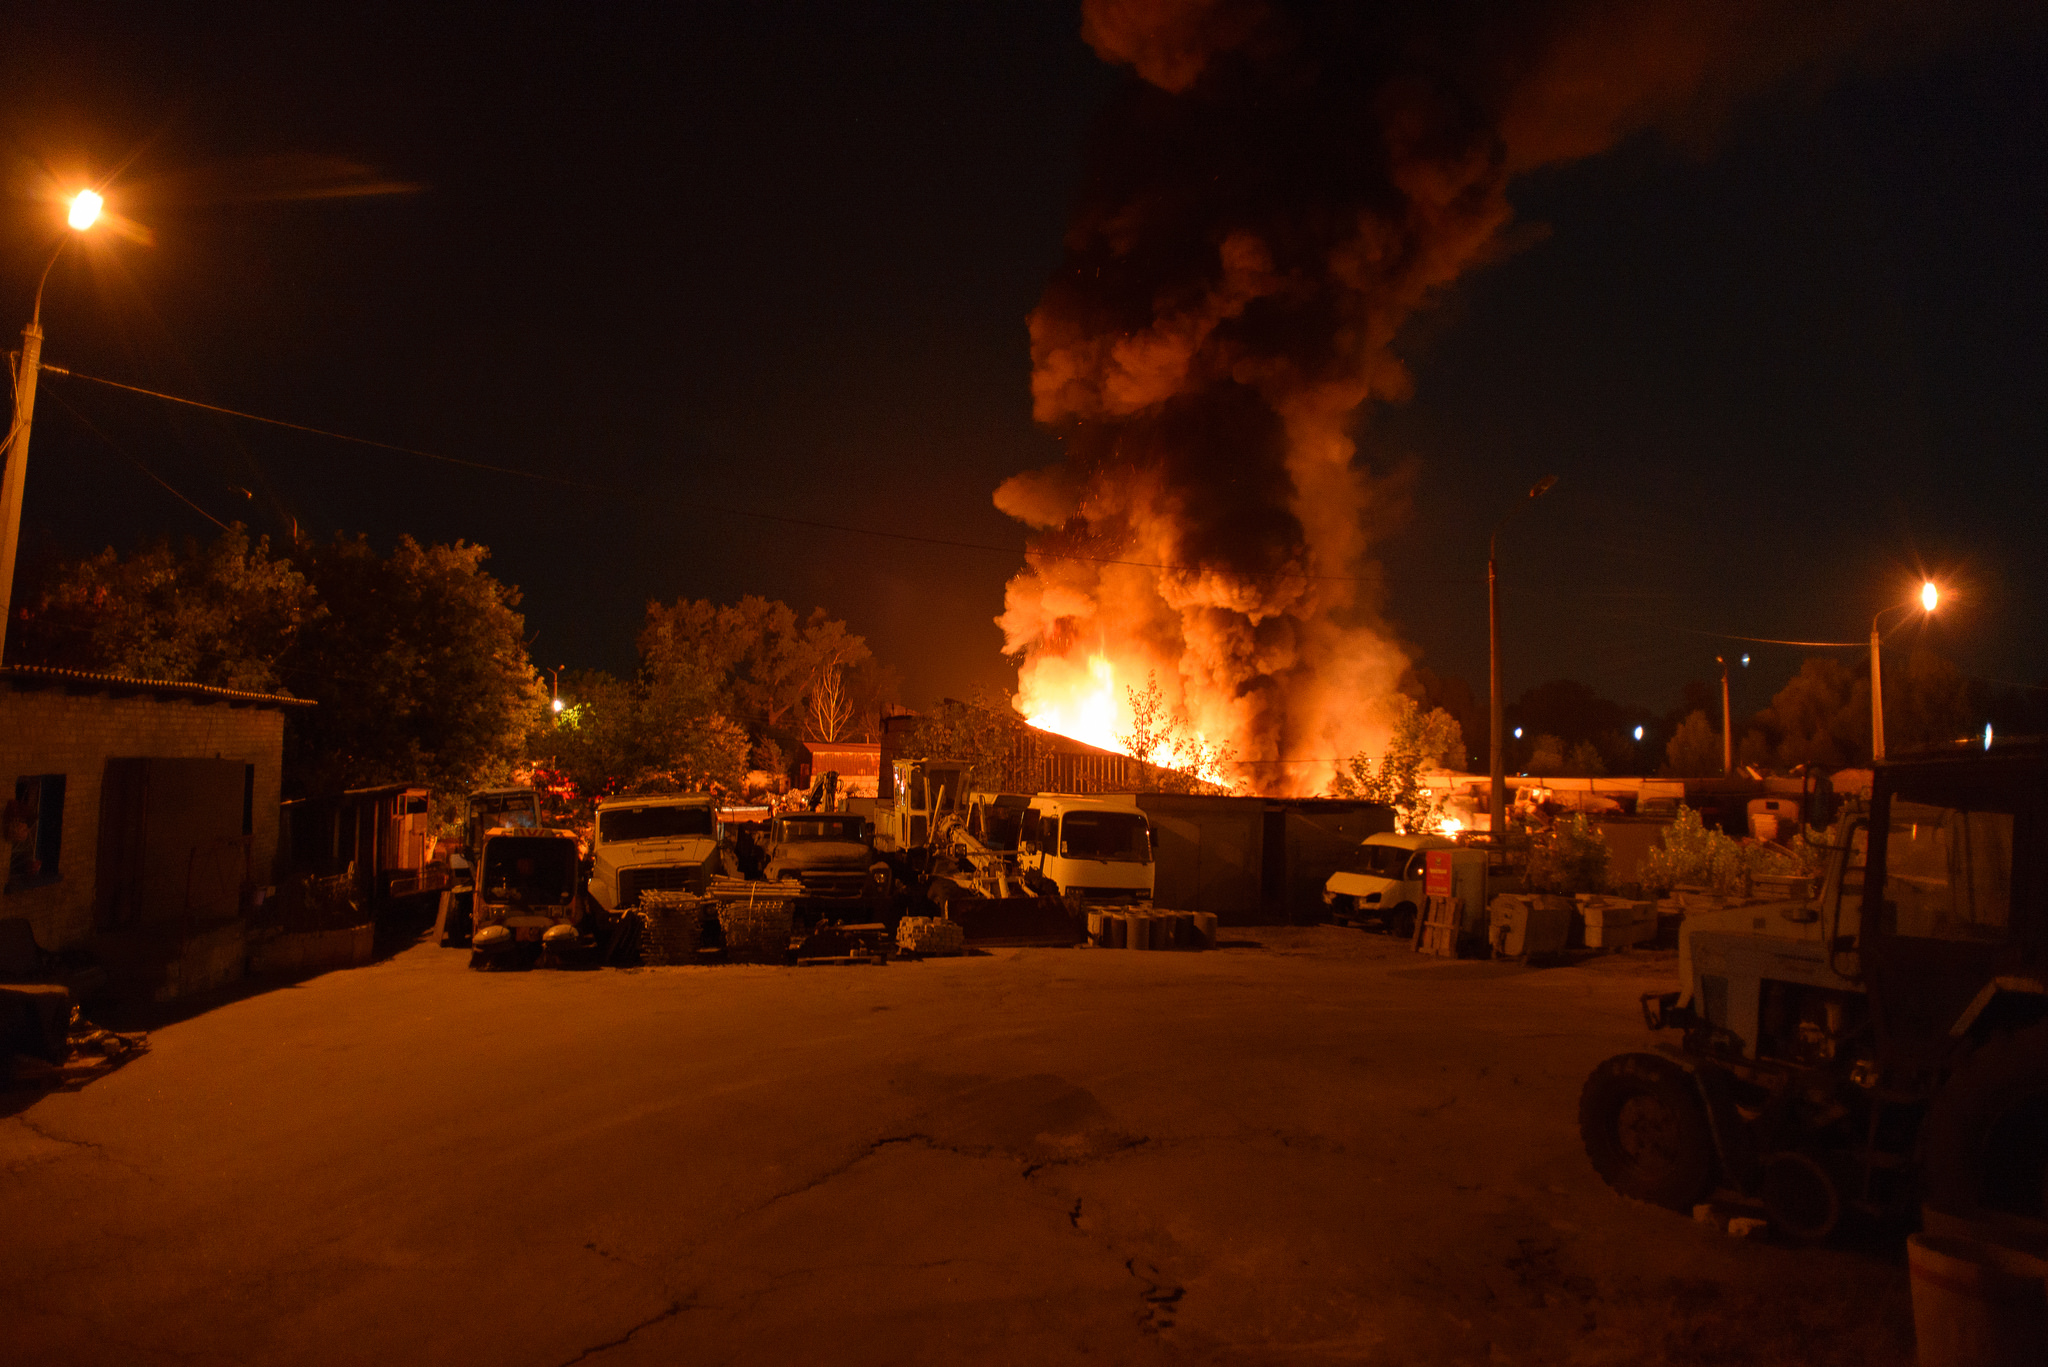fire: (997, 584, 1446, 848)
